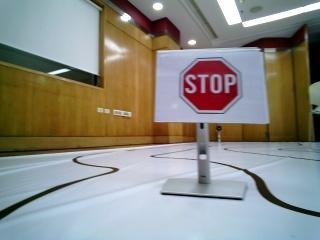stop: (169, 54, 263, 118)
